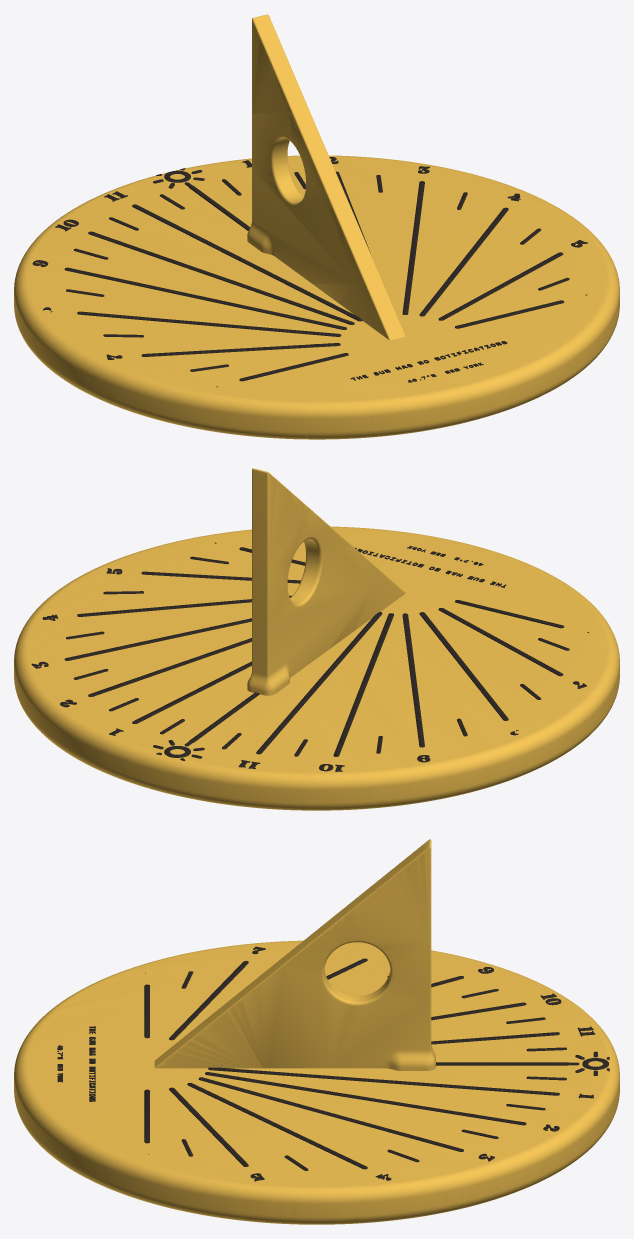
The model's file is sundial.glb.
3 renders of one model, top to bottom at view 1: azimuth 30°, elevation 25°; view 2: azimuth 150°, elevation 25°; view 3: azimuth 270°, elevation 25°, orthographic.
Visible parts, largest first — view 1: sundial-plate, sundial-ink; view 2: sundial-plate, sundial-ink; view 3: sundial-plate, sundial-ink.
Part boxes in pixels (x1=…): sundial-plate: x1=14, y1=14, x2=619, y2=439; sundial-ink: x1=32, y1=157, x2=587, y2=387; sundial-plate: x1=14, y1=468, x2=619, y2=810; sundial-ink: x1=31, y1=542, x2=588, y2=771; sundial-plate: x1=14, y1=839, x2=619, y2=1224; sundial-ink: x1=57, y1=946, x2=609, y2=1181.
Size of the model in its own units: 0.15 by 0.0705 by 0.15.
